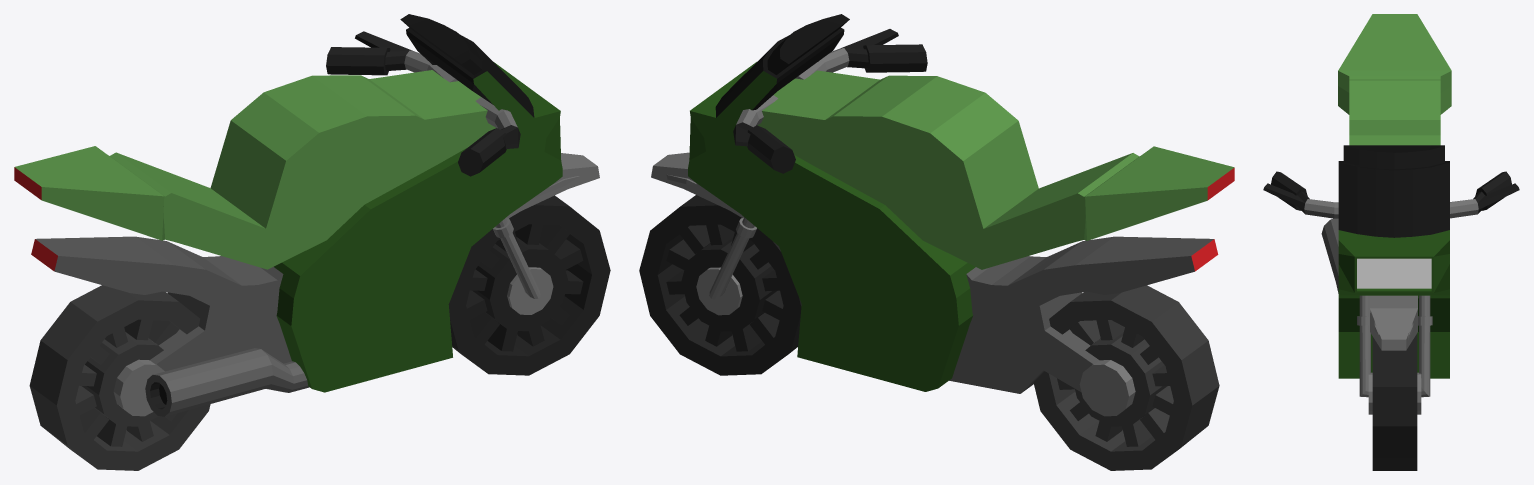
Rendered from bike.fbx.
The picture shows the model from 3 angles, left to right: view 1: azimuth 30°, elevation 25°; view 2: azimuth 150°, elevation 25°; view 3: azimuth 270°, elevation 25°; orthographic projection. The views are drawn at different scales.
Parts seen in each view (by area): view 1: Cylinder; view 2: Cylinder; view 3: Cylinder.
Boxes of the visible parts, x1,y1,x2,y2 form: Cylinder: (14, 14, 610, 470); Cylinder: (639, 14, 1234, 470); Cylinder: (1263, 14, 1519, 470).
Bounding box in the file's own units: 81.13 × 100 × 171.
